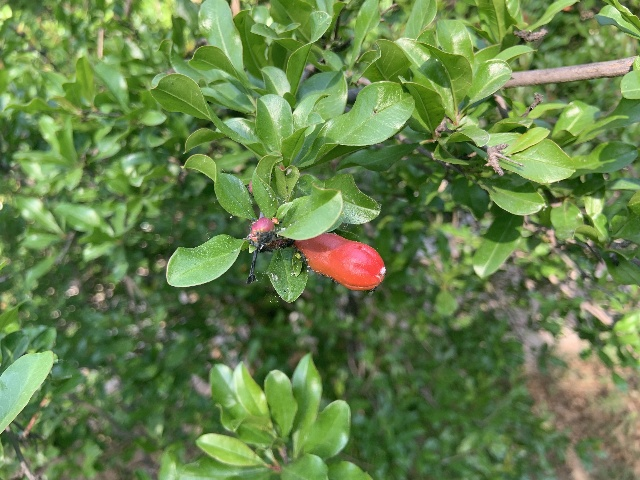bud: (294, 232, 385, 291), (250, 216, 274, 239)
